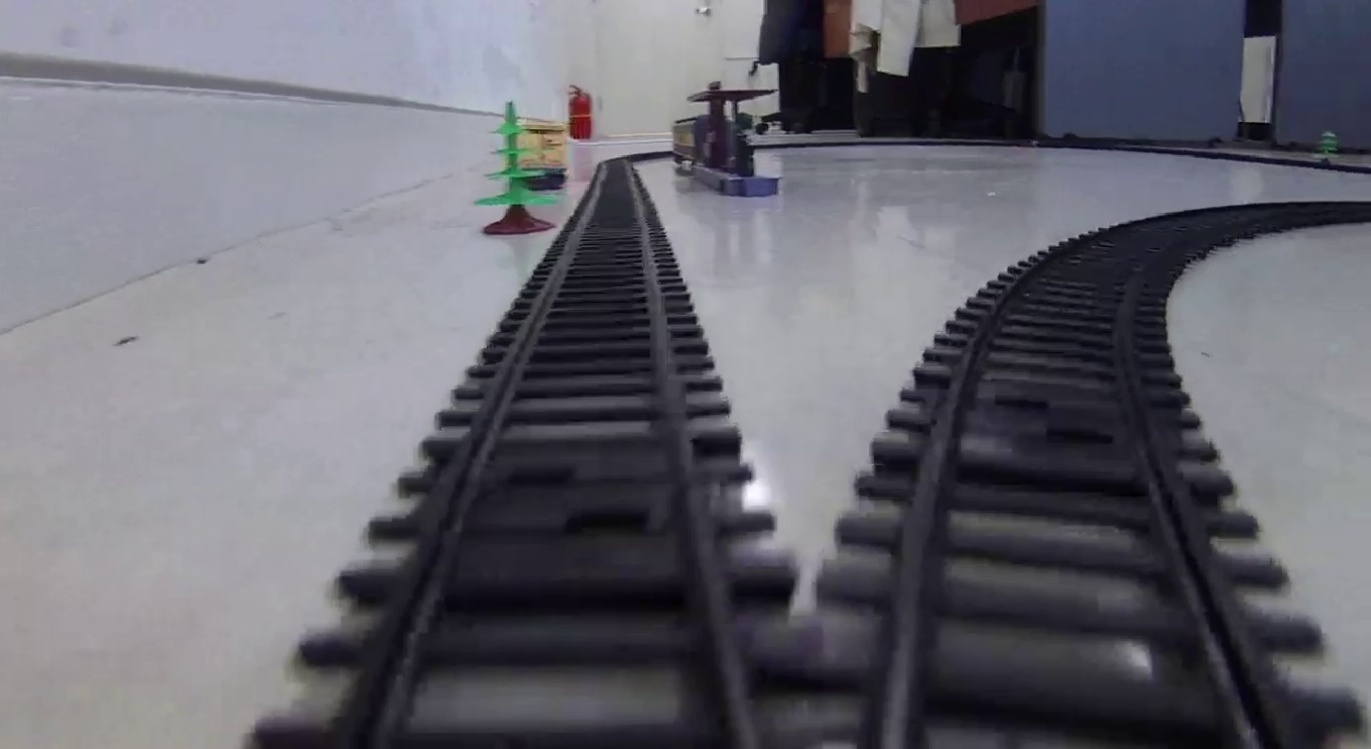tree: (469, 99, 562, 235)
